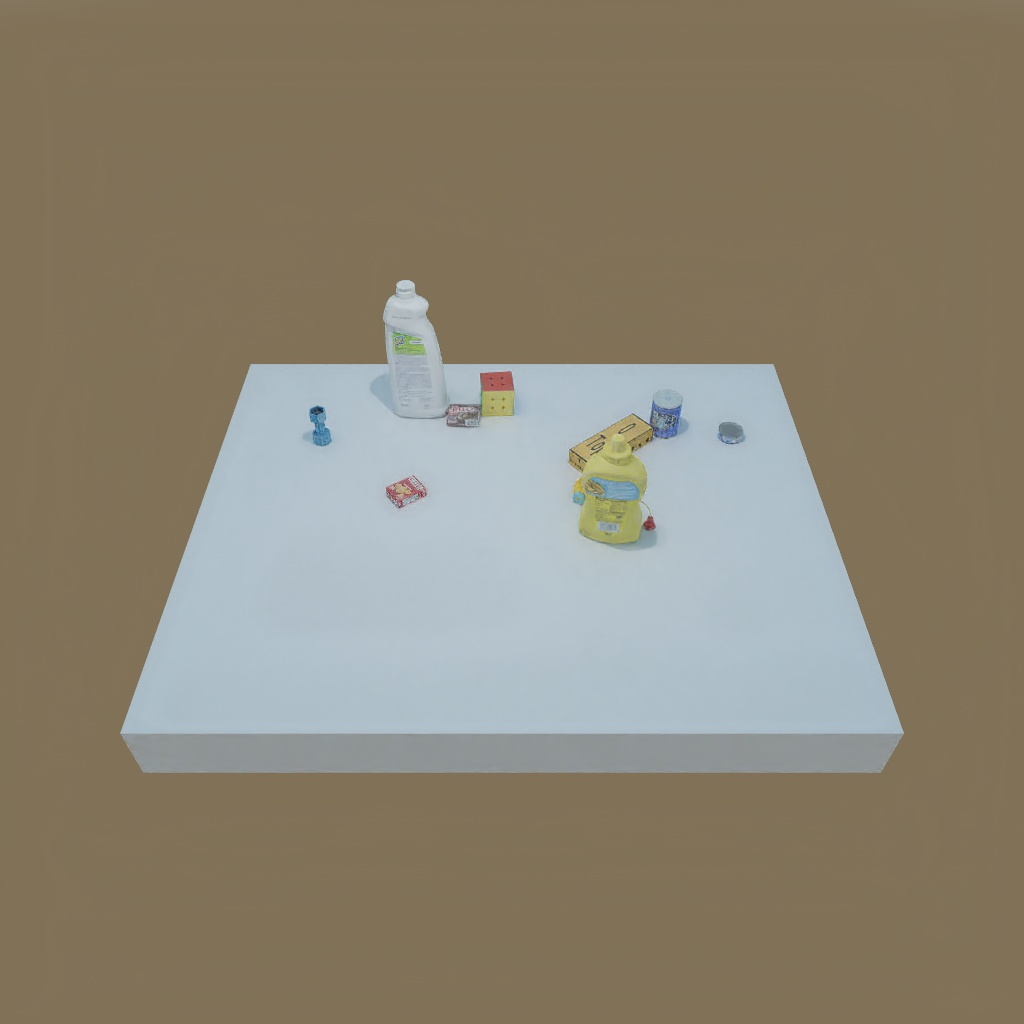jenga: (572, 411, 658, 472)
master_chef_can: (646, 386, 688, 443)
mustard_bottle: (577, 440, 643, 551)
pudding_box: (444, 401, 486, 429)
rubiks_cube: (477, 369, 520, 418)
